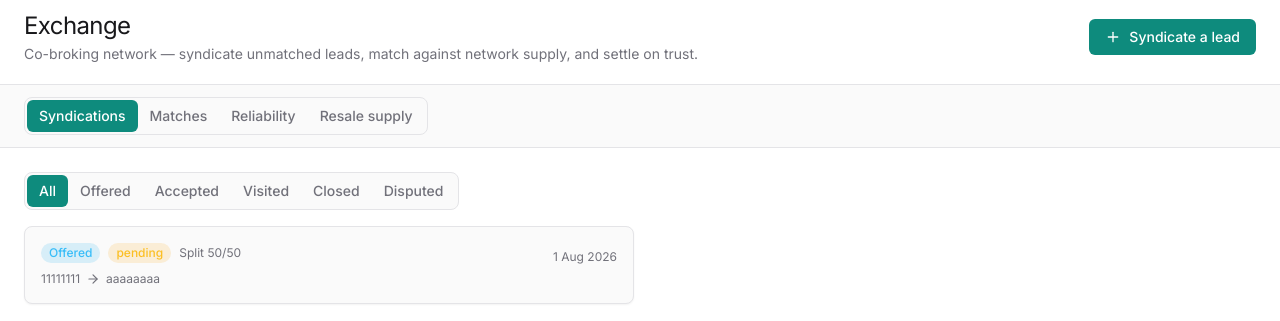
it: ExchangePage reliability tab › ranks members by composite score, best first
Click the button "Reliability".
click(263, 116)  # box [219,100,308,132]
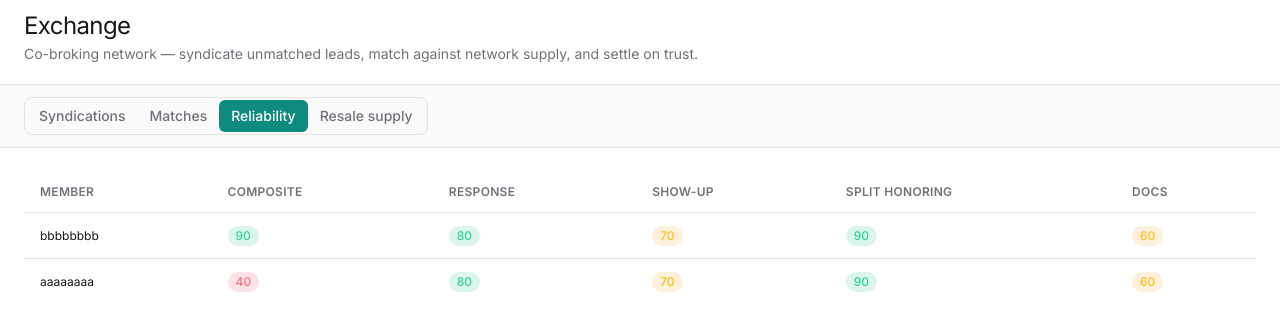
Expected: the text "aaaaaaaa" is shown, [24,258,212,304]
Expected: the text "bbbbbbbb" is shown, [24,212,212,258]
